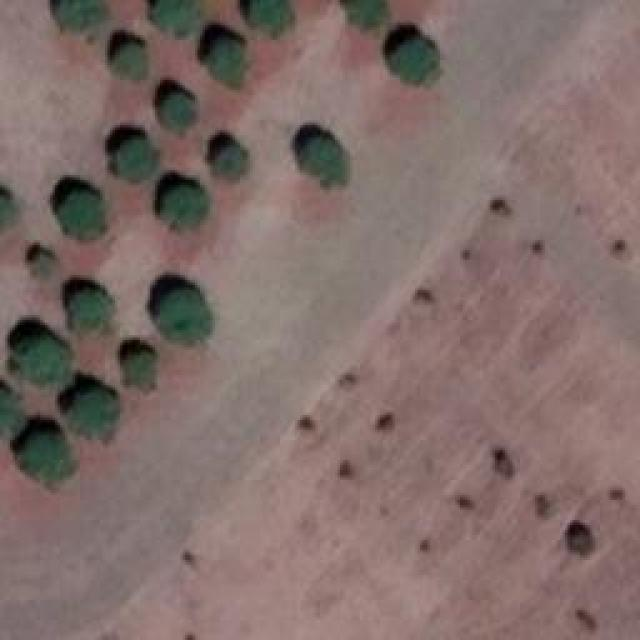Tree: (10, 335, 73, 388), (290, 130, 343, 185), (160, 287, 210, 345), (68, 388, 121, 441), (53, 188, 103, 243), (22, 425, 70, 480), (388, 32, 433, 80), (65, 288, 110, 333), (150, 0, 200, 40), (163, 183, 206, 226), (207, 35, 245, 83), (158, 88, 198, 133), (115, 135, 153, 180), (248, 0, 293, 38), (52, 0, 99, 32), (210, 142, 248, 180), (118, 42, 151, 80), (123, 348, 158, 383), (0, 384, 22, 437), (343, 0, 383, 28), (30, 250, 58, 283), (0, 192, 18, 230)
